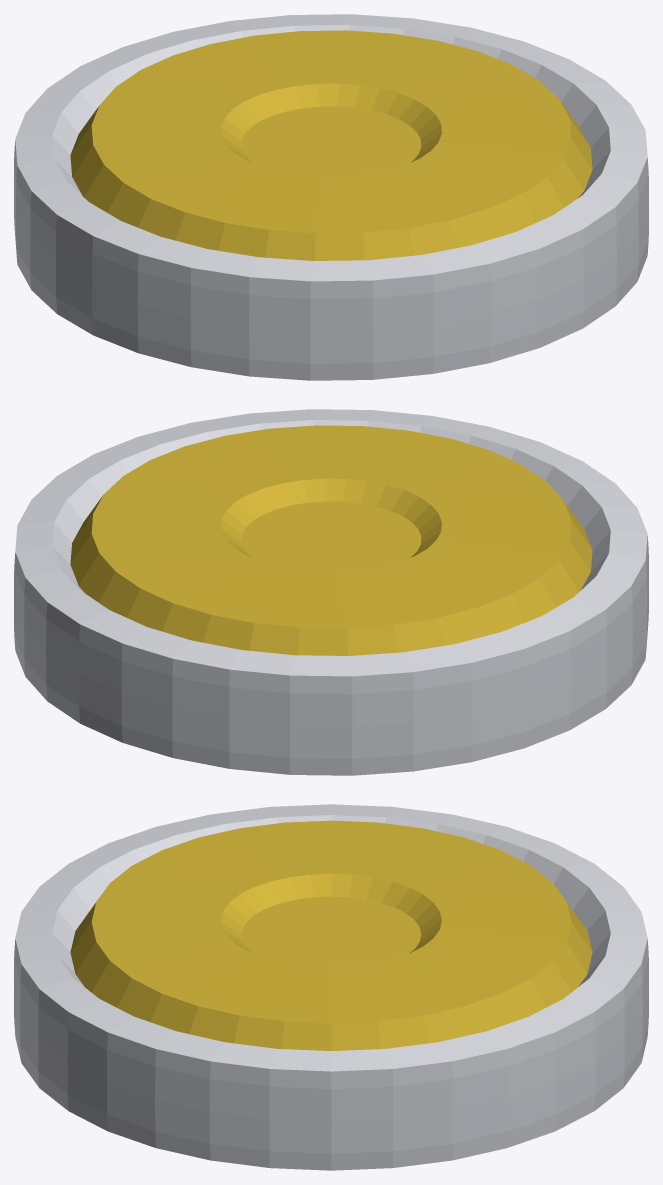
Rendered from coin.glb.
3 renders of one model, top to bottom at view 1: azimuth 30°, elevation 25°; view 2: azimuth 150°, elevation 25°; view 3: azimuth 270°, elevation 25°, orthographic.
Visible parts, largest first — view 1: Cylinder; view 2: Cylinder; view 3: Cylinder.
Part boxes in pixels (box(x1,y1,x2,y2)): Cylinder: box(14, 14, 648, 380); Cylinder: box(14, 409, 648, 775); Cylinder: box(14, 804, 648, 1170).
Size of the model in its own units: 2.01 by 0.4679 by 2.01.
